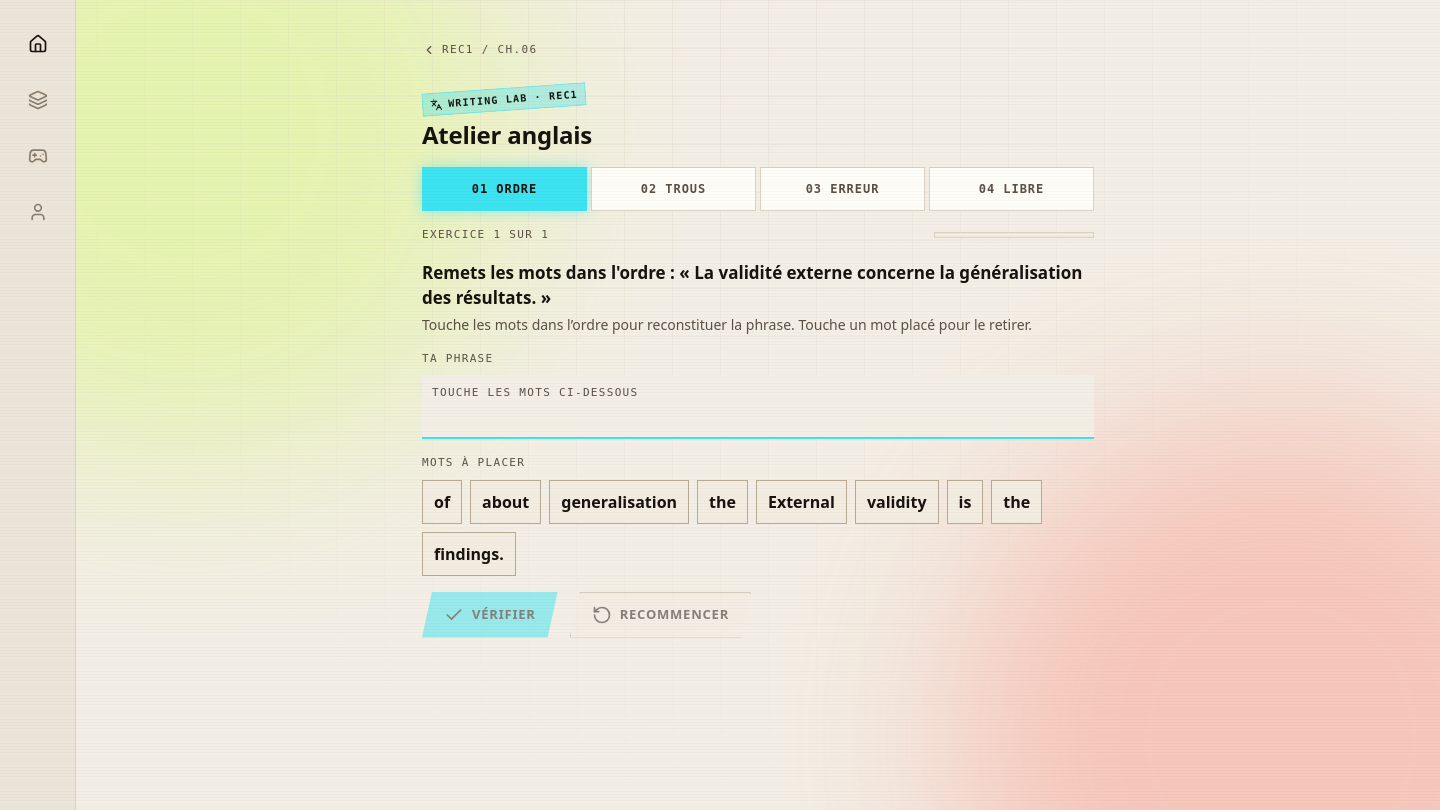
Test: atelier anglais REC1-05 › niveau 2 : trou faux → bonne réponse affichée, indice dérivé de la réponse
Expected: the element named "Niveaux de l’atelier" is shown, [422,167,1094,211]
Click the tab "02 TROUS". click: (674, 189)
box: [591,167,756,211]
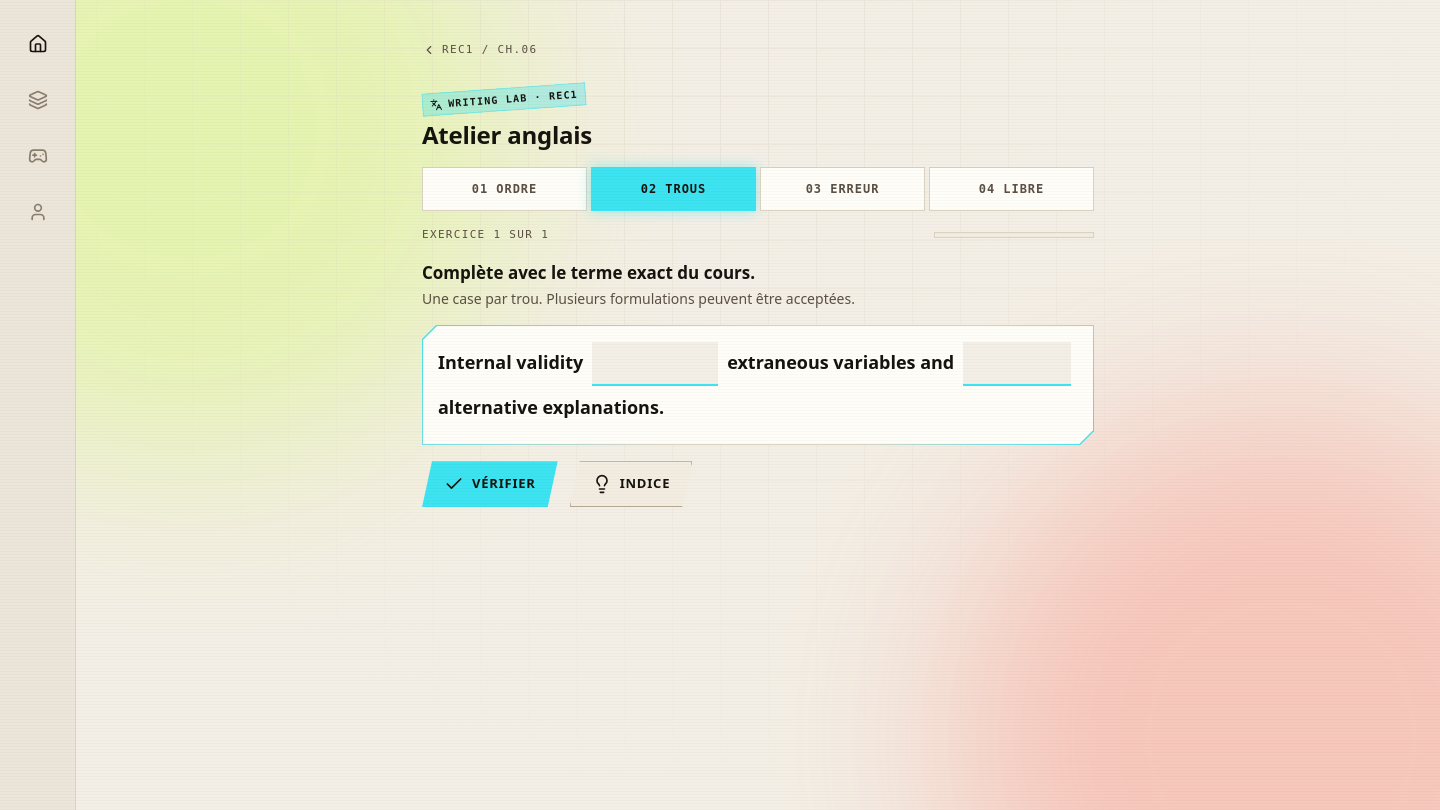
Click the button "Indice". click: (631, 484)
box: [570,461,692,507]
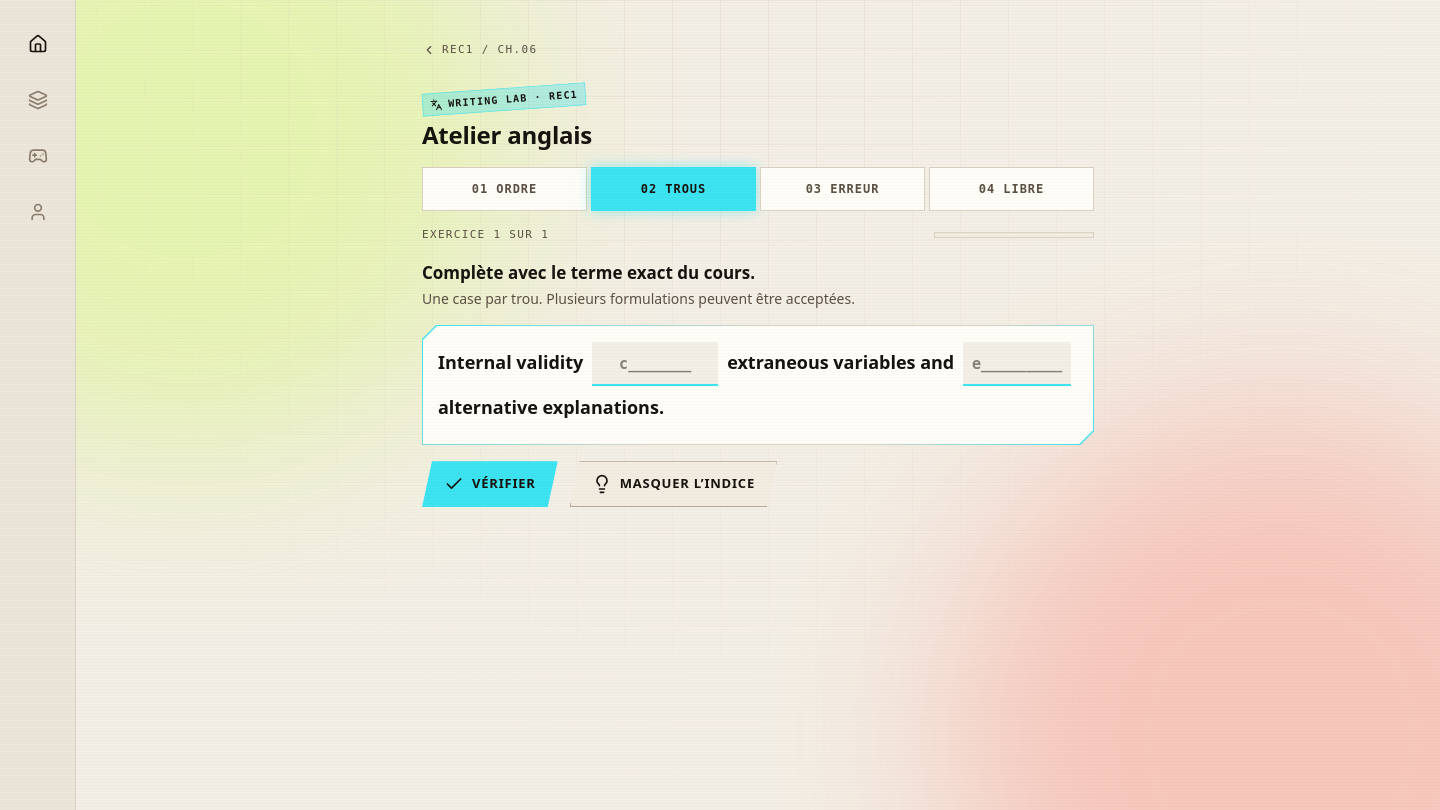
Expected: the field named "Trou 1 sur 2" has attribute placeholder="c_______"
Type "controls" into the field named "Trou 1 sur 2". click: (655, 364)
box: [592,342,718,386]
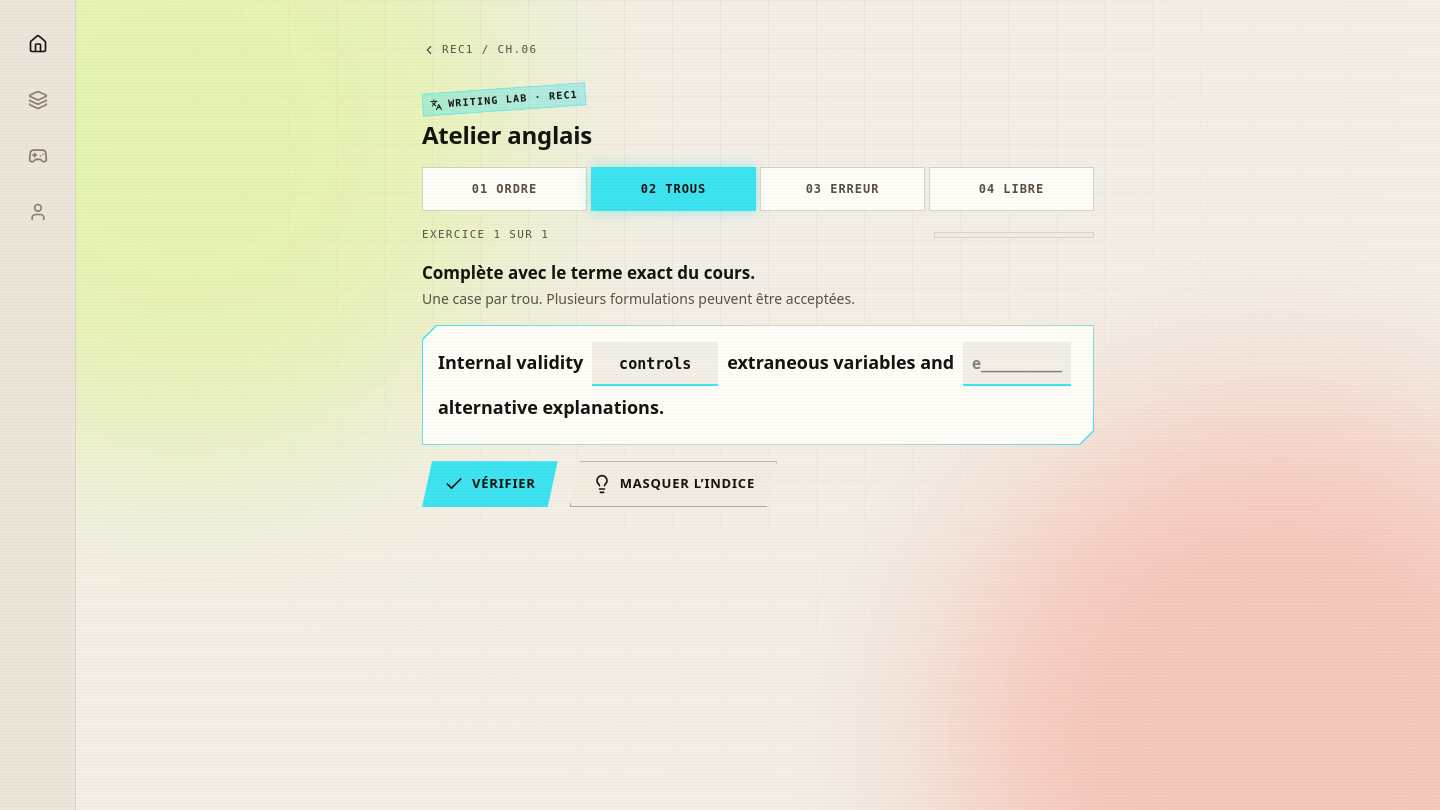
Type "removes" into the field named "Trou 2 sur 2". click: (1017, 364)
box: [963,342,1071,386]
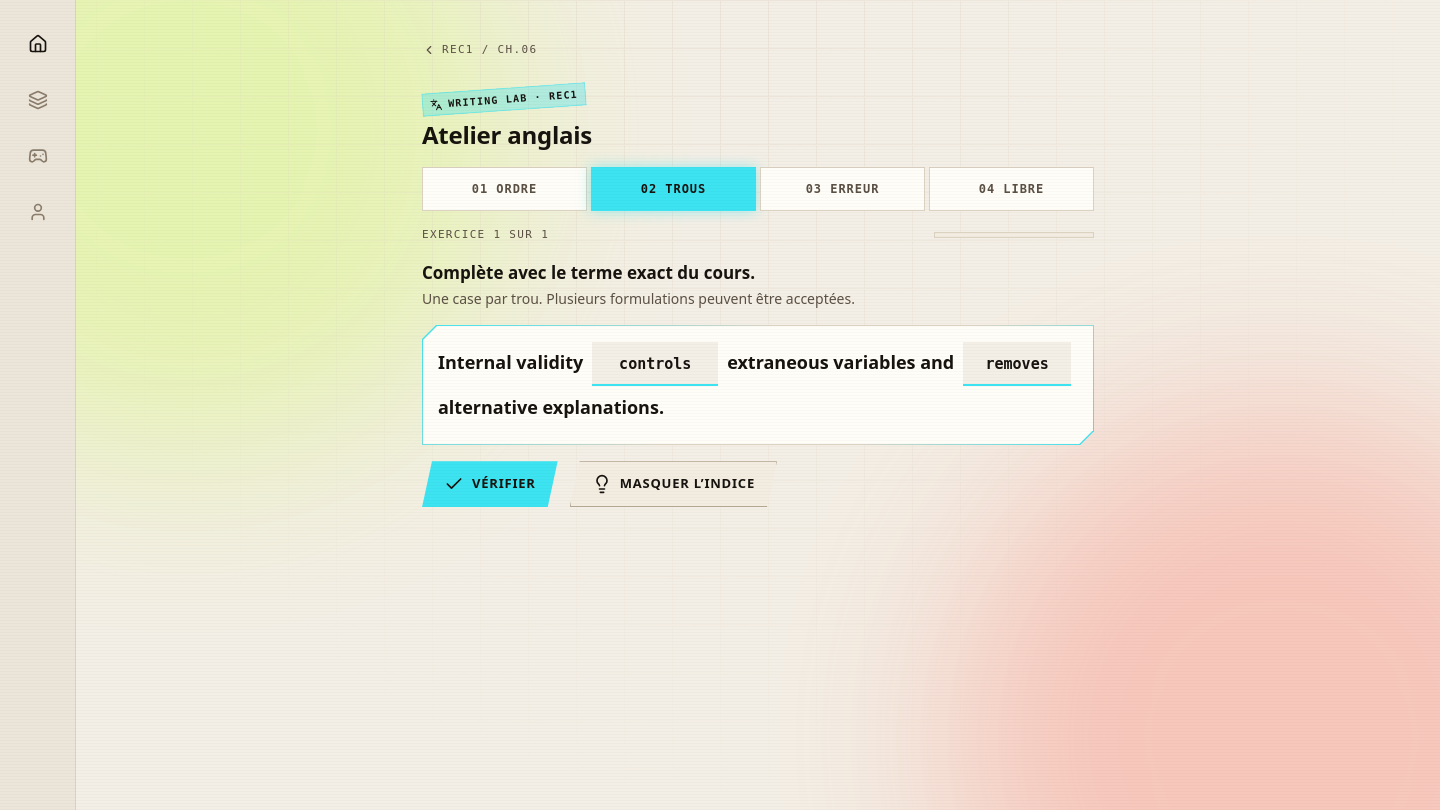
Click the button "Vérifier". click: (490, 484)
box: [422,461,558,507]
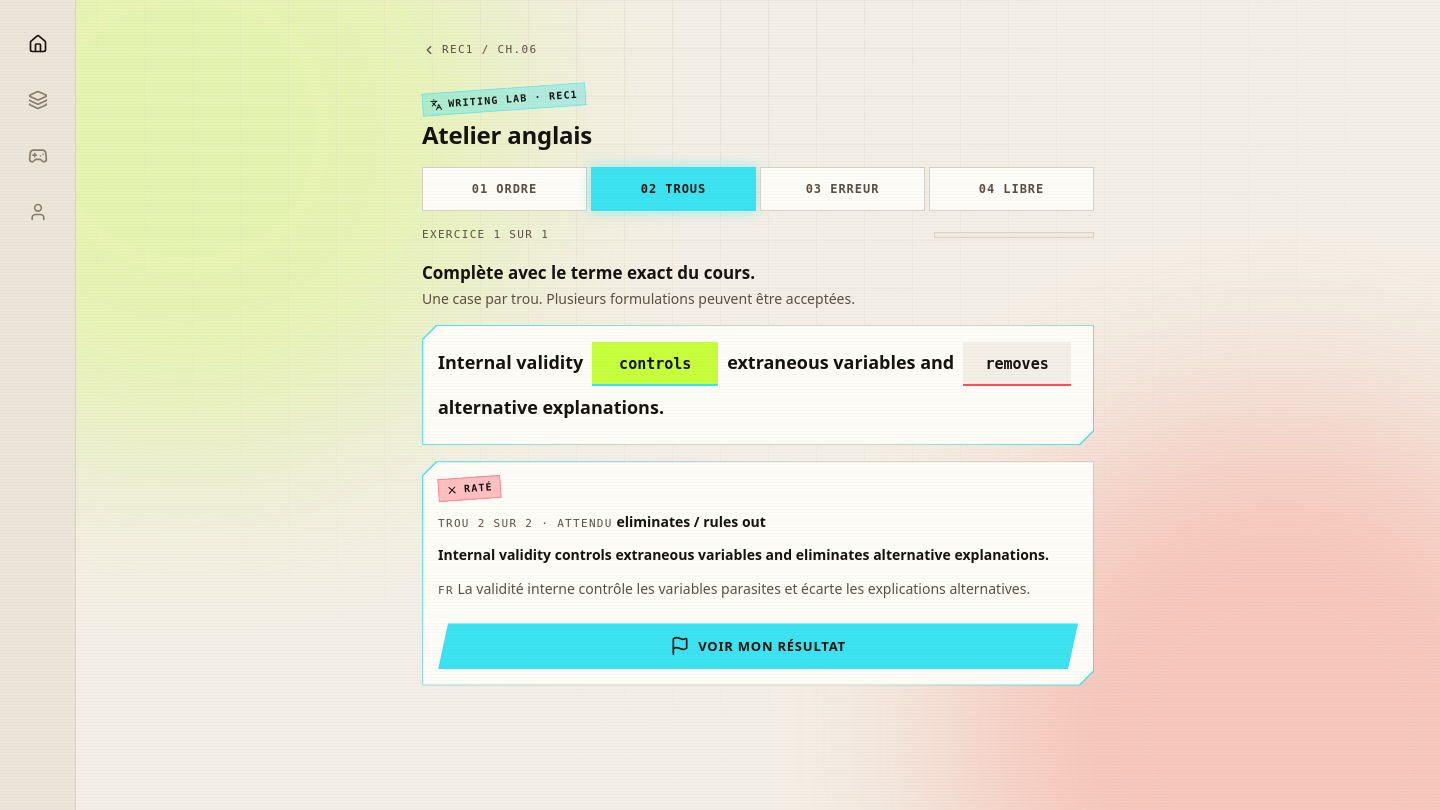
Expected: the element "Raté" is shown, [438,477,1078,670]
Expected: the text "eliminates / rules out" is shown, [616,512,766,531]
